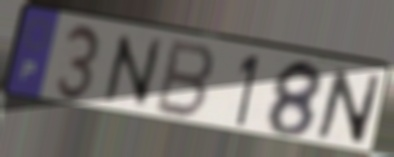1: (235, 53, 261, 129)
3: (53, 22, 104, 104)
8: (266, 58, 327, 141)
B: (151, 37, 220, 123)
N: (313, 66, 384, 149), (99, 31, 165, 110)
